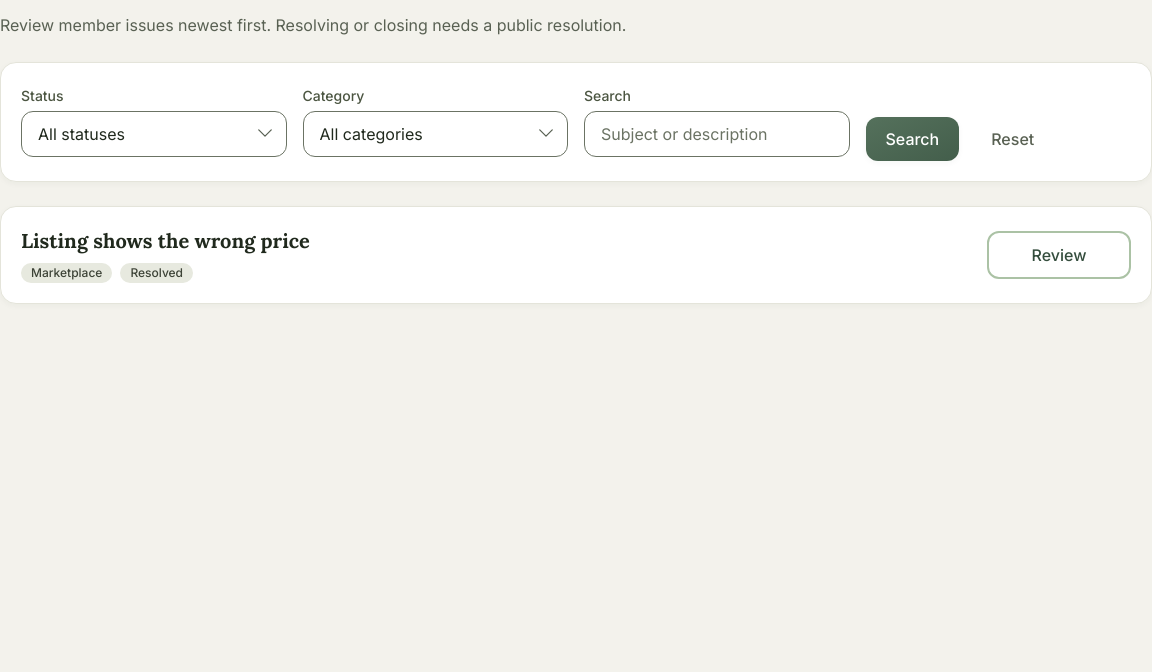
Test: AdminIssuesPage.vue › reopening clears the current resolution
This screenshot has width=1152, height=672.
Click the button "Review".
click(1059, 255)  # box top-left (987, 231), bottom-right (1131, 279)
(page scrolled)
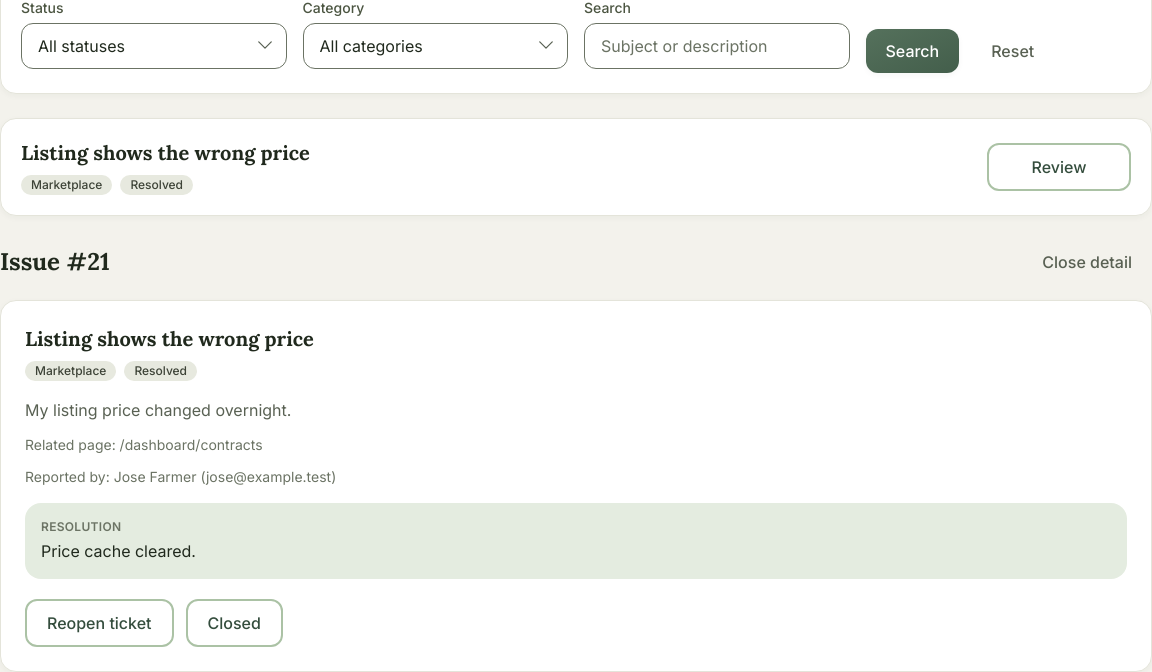
expect the text "Reopen ticket" is shown: met
Click the button with test id "issue-transition-in_progress".
click(99, 623)  # box top-left (25, 599), bottom-right (174, 647)
(page scrolled)
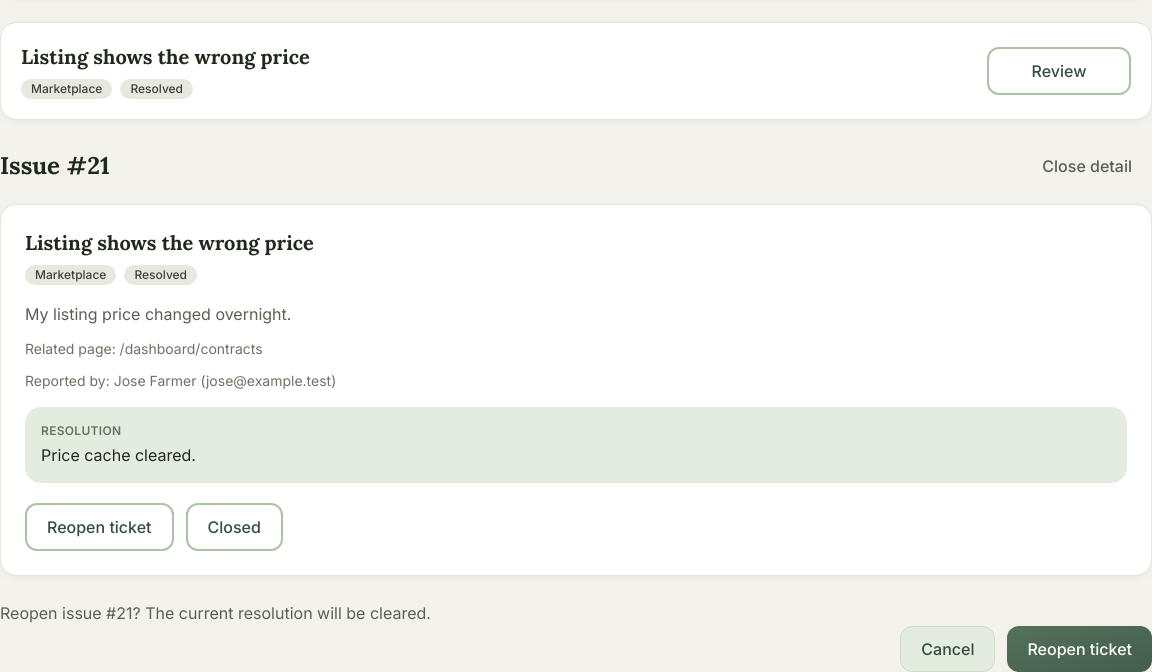
Click the button with test id "issue-transition-confirm".
click(1080, 649)  # box top-left (1008, 626), bottom-right (1151, 671)
(page scrolled)
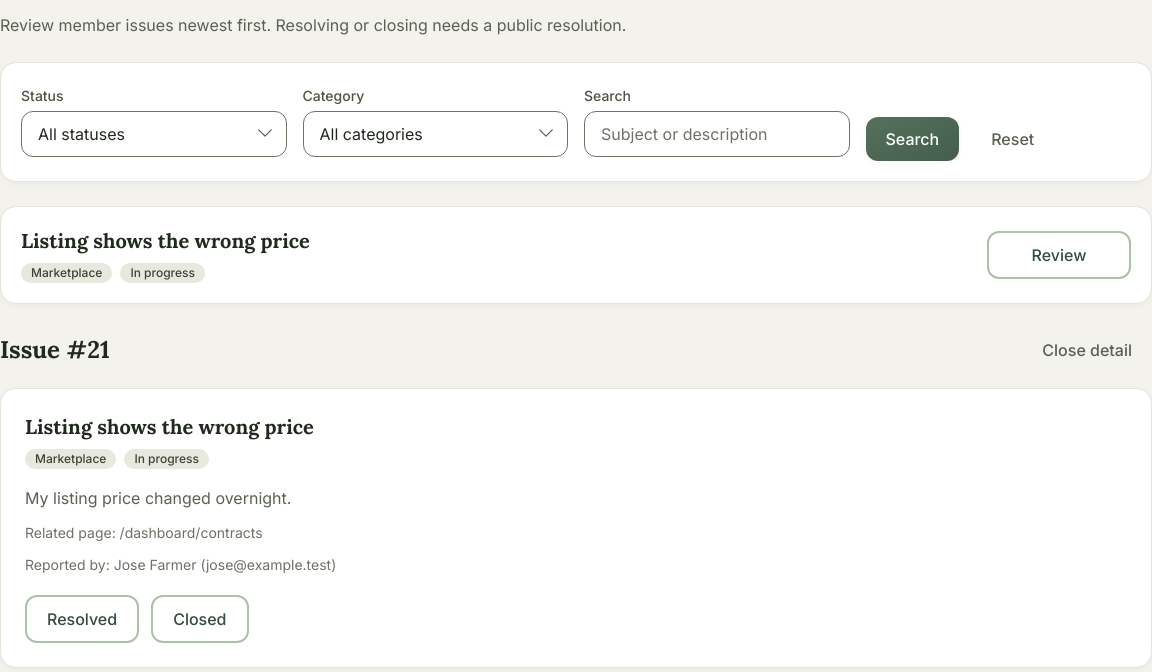
expect the text named "Issue detail" no longer shows "Price cache cleared.": met
expect the element named "Issue detail" shows "In progress": met, box top-left (134, 451), bottom-right (199, 466)
